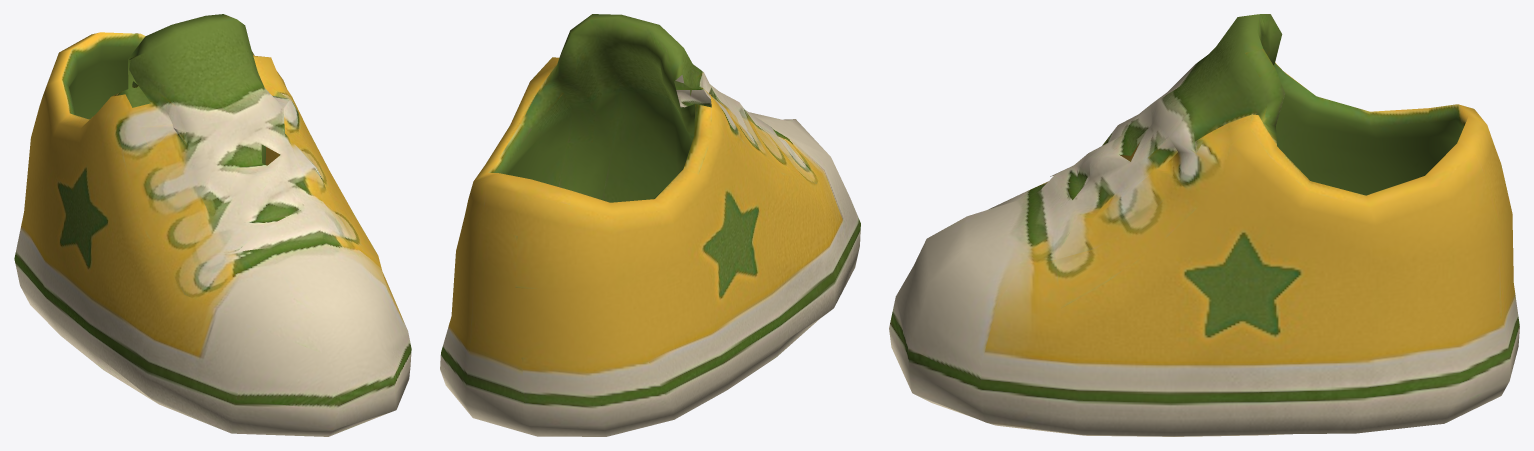
Rendered from but.glb.
3 views of the same model, side by side, from view 1: azimuth 30°, elevation 25°; view 2: azimuth 150°, elevation 25°; view 3: azimuth 270°, elevation 25° (orthographic). The views are drawn at different scales.
Parts seen in each view (by area): view 1: tripo_node_627eda27-08eb-454c-8947-a39a1053f1ea; view 2: tripo_node_627eda27-08eb-454c-8947-a39a1053f1ea; view 3: tripo_node_627eda27-08eb-454c-8947-a39a1053f1ea.
Part boxes in pixels (x1,y1,x2,y2): tripo_node_627eda27-08eb-454c-8947-a39a1053f1ea: (14,14,411,436); tripo_node_627eda27-08eb-454c-8947-a39a1053f1ea: (440,14,860,436); tripo_node_627eda27-08eb-454c-8947-a39a1053f1ea: (889,14,1519,436).
Bounding box in the file's own units: 0.508 × 0.6029 × 0.9772.
Materials: 1 (1 with a texture image).
